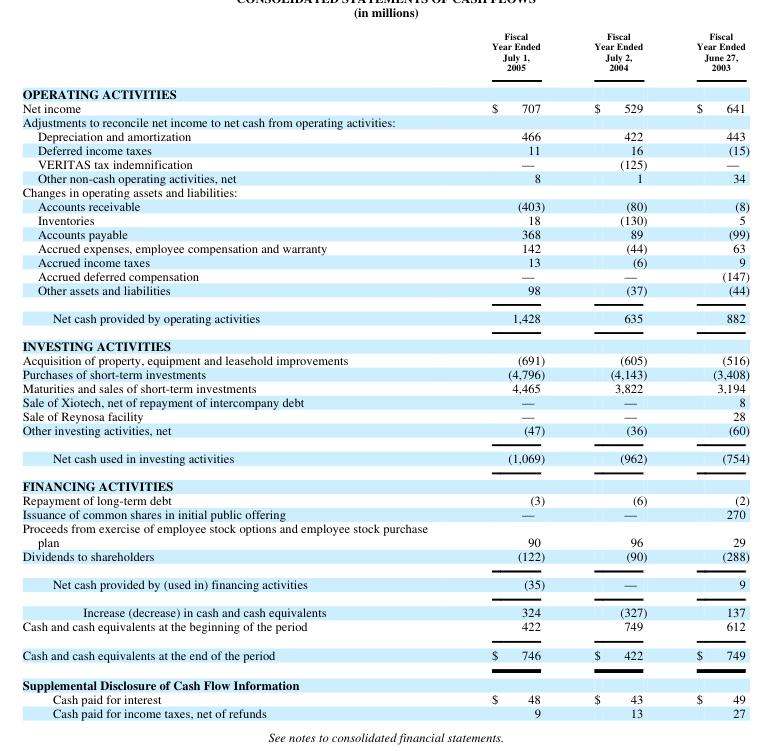table: (21, 28, 748, 720)
table column: (21, 28, 458, 720), (458, 28, 568, 720), (568, 28, 671, 720), (671, 28, 748, 720)
table column header: (21, 28, 748, 79)
table projected row header: (21, 669, 748, 691), (21, 79, 748, 100), (21, 331, 748, 352), (21, 471, 748, 492), (21, 113, 748, 127), (21, 183, 748, 197)
table row: (21, 28, 748, 79), (21, 639, 748, 669), (21, 302, 748, 331), (21, 443, 748, 471), (21, 520, 748, 548), (21, 569, 748, 597), (21, 421, 748, 443), (21, 669, 748, 691), (21, 79, 748, 100), (21, 281, 748, 302), (21, 331, 748, 352), (21, 471, 748, 492), (21, 548, 748, 569), (21, 597, 748, 618), (21, 618, 748, 639), (21, 704, 748, 720), (21, 113, 748, 127), (21, 127, 748, 141), (21, 141, 748, 155), (21, 155, 748, 169), (21, 169, 748, 183), (21, 183, 748, 197), (21, 197, 748, 211), (21, 211, 748, 225), (21, 225, 748, 239), (21, 239, 748, 253), (21, 253, 748, 267), (21, 267, 748, 281), (21, 352, 748, 366), (21, 366, 748, 380), (21, 380, 748, 394), (21, 407, 748, 421), (21, 492, 748, 506), (21, 506, 748, 520), (21, 100, 748, 113), (21, 394, 748, 407), (21, 691, 748, 704)
